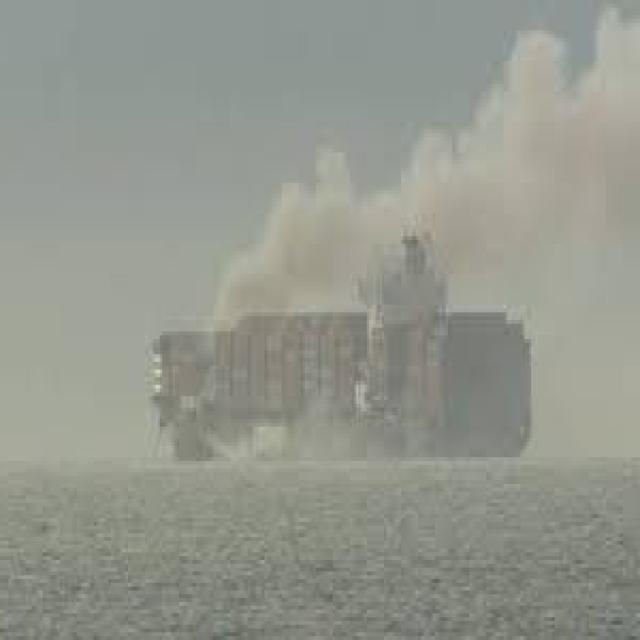cargoship: (142, 217, 533, 468)
